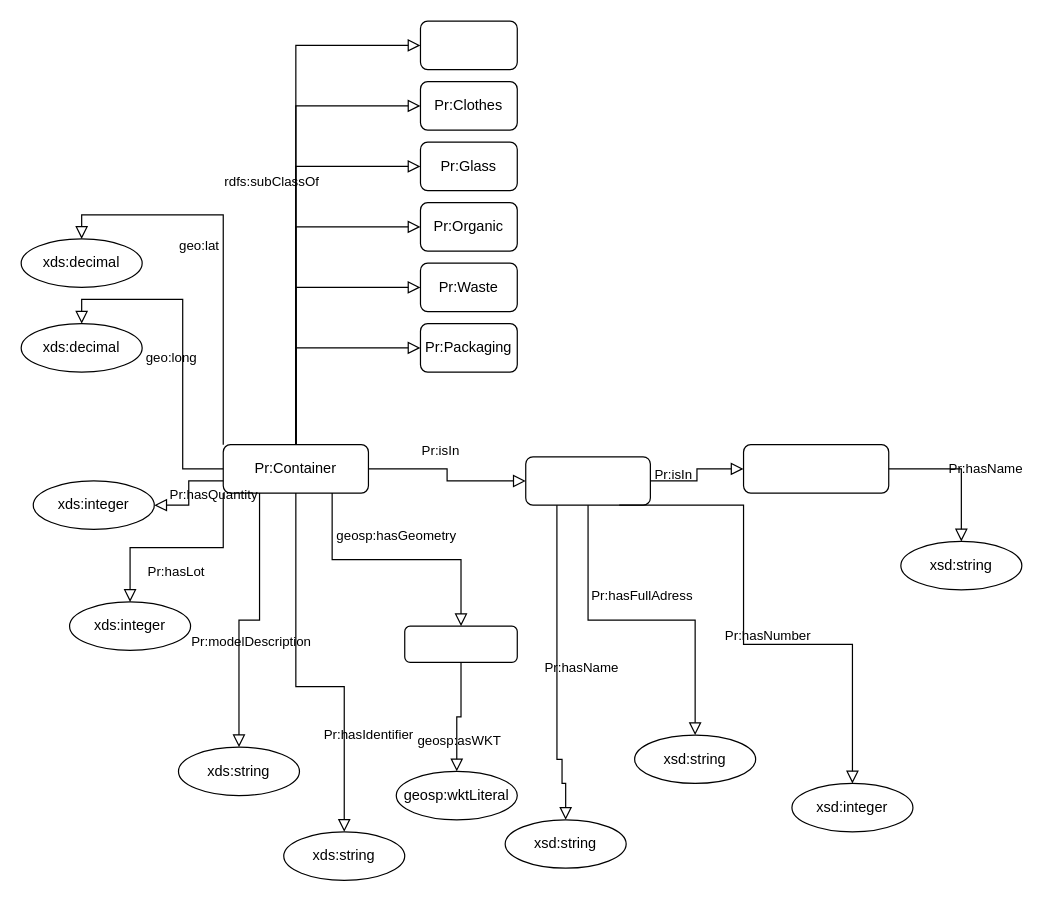
This 1043x901 diagram has some shape labels left out. The shapes that lost their labels are listed below. From the top down, each one's centre as x and y in pixels, then its label:
(468,45): Pr:Paper-Cardboard
(587,480): Pr:Adress
(815,468): Pr:District
(460,643): sf:Point
